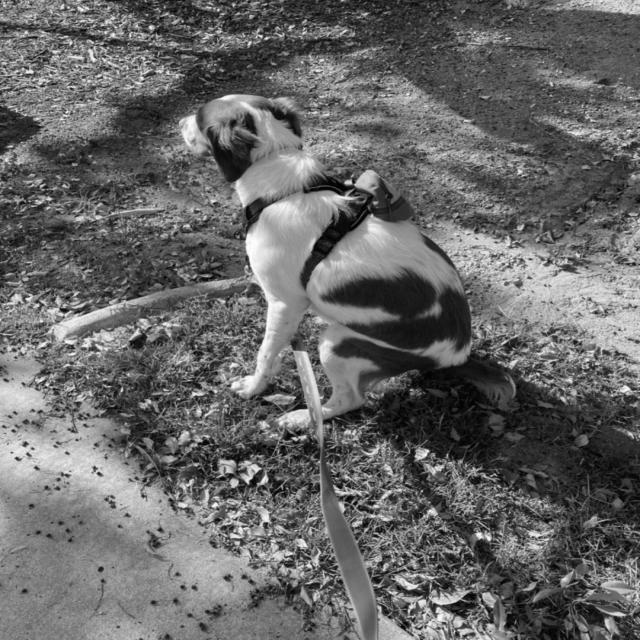squatting: (170, 92, 520, 434)
